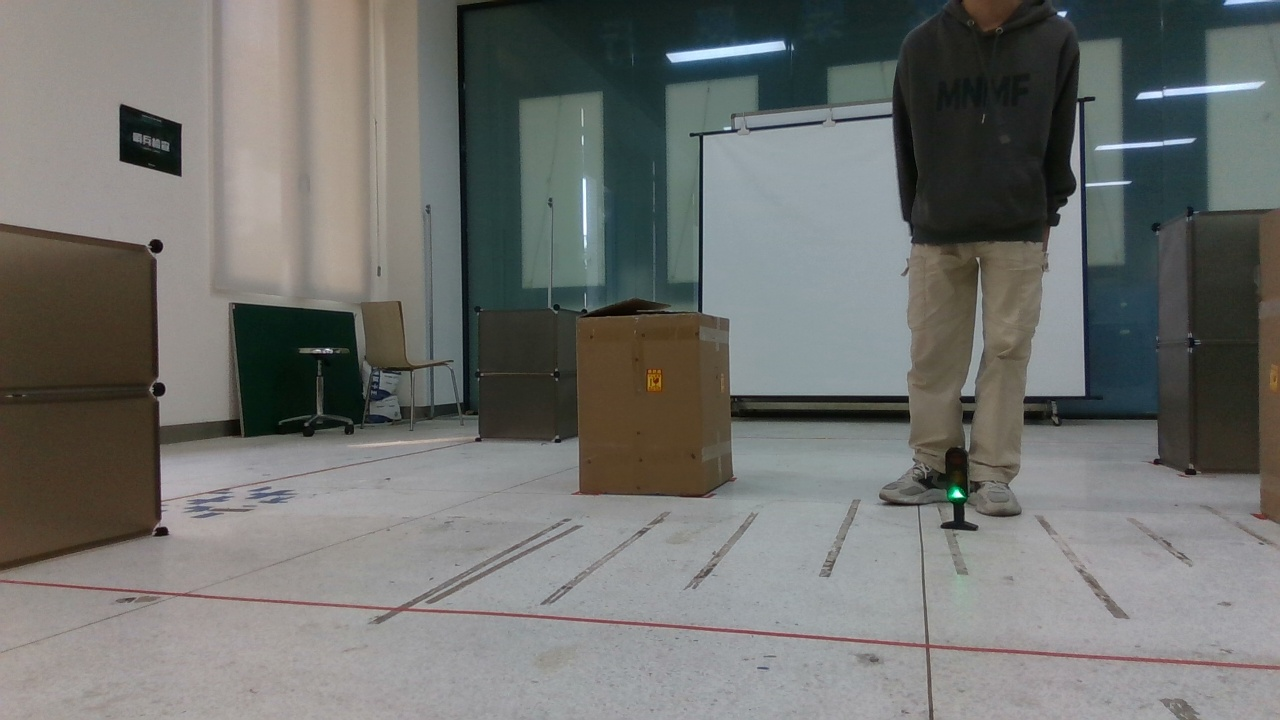green_light: (920, 439, 987, 538)
